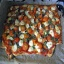pizza: (1, 5, 60, 55)
